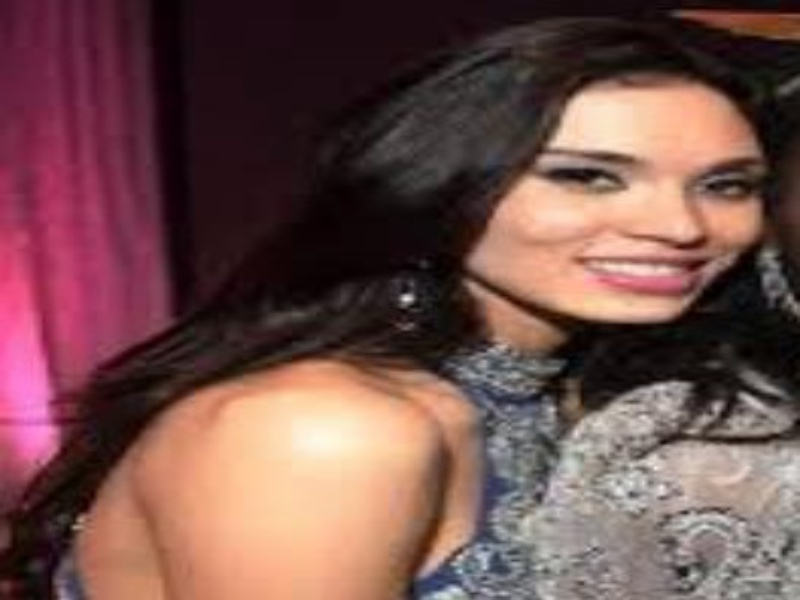TsisyArotava: (492, 45, 781, 345)
